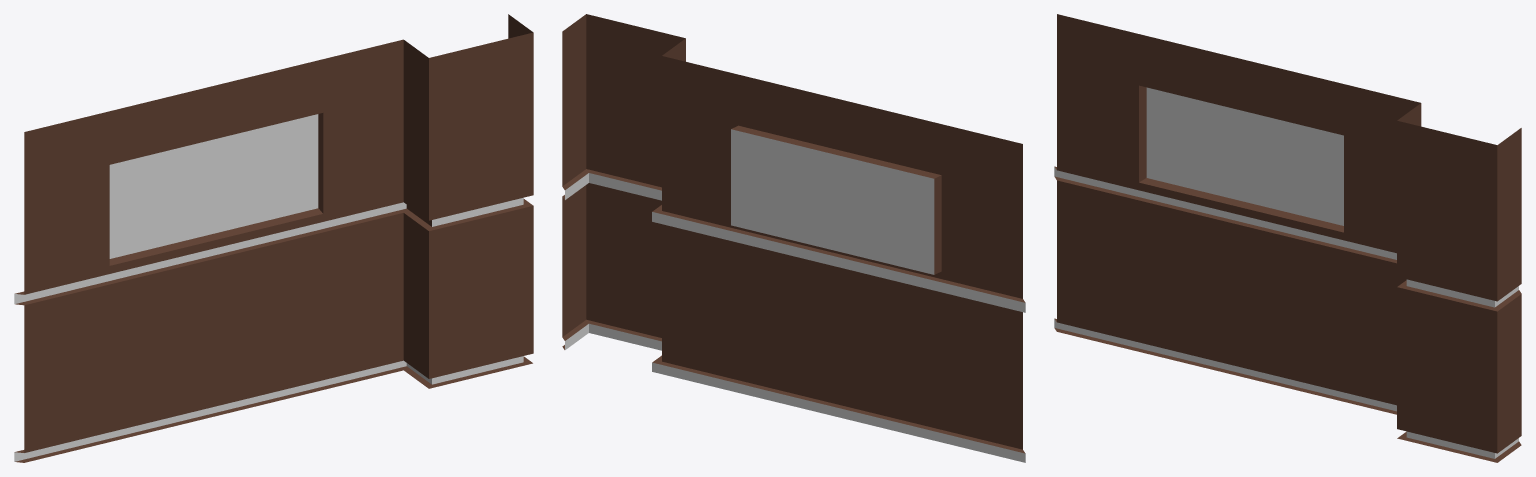
The model's file is brutalismroom 1.fbx.
The picture shows the model from 3 angles, left to right: view 1: azimuth 30°, elevation 25°; view 2: azimuth 150°, elevation 25°; view 3: azimuth 330°, elevation 25°; orthographic projection. The views are drawn at different scales.
Visible parts, largest first — view 1: brutalistm room; view 2: brutalistm room; view 3: brutalistm room.
Boxes of the visible parts, x1,y1,x2,y2 form: brutalistm room: [14, 14, 533, 462]; brutalistm room: [562, 14, 1025, 462]; brutalistm room: [1054, 14, 1521, 462].
Size of the model in its own units: 383 by 247 by 42.74.
